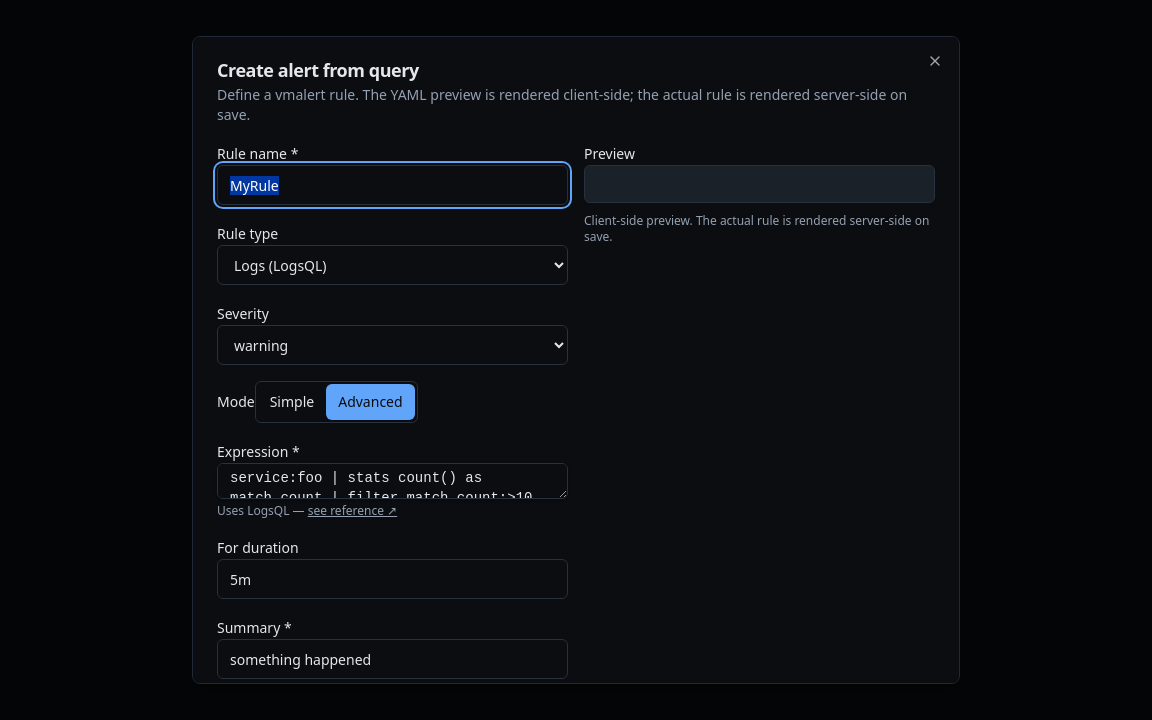
Test case: CreateAlertModal › shows a regex error for an invalid rule_name on submit
Replace the text in the field with test id "create-alert-name" with "1bad": (392, 185) [217, 165, 568, 205]
(page scrolled)
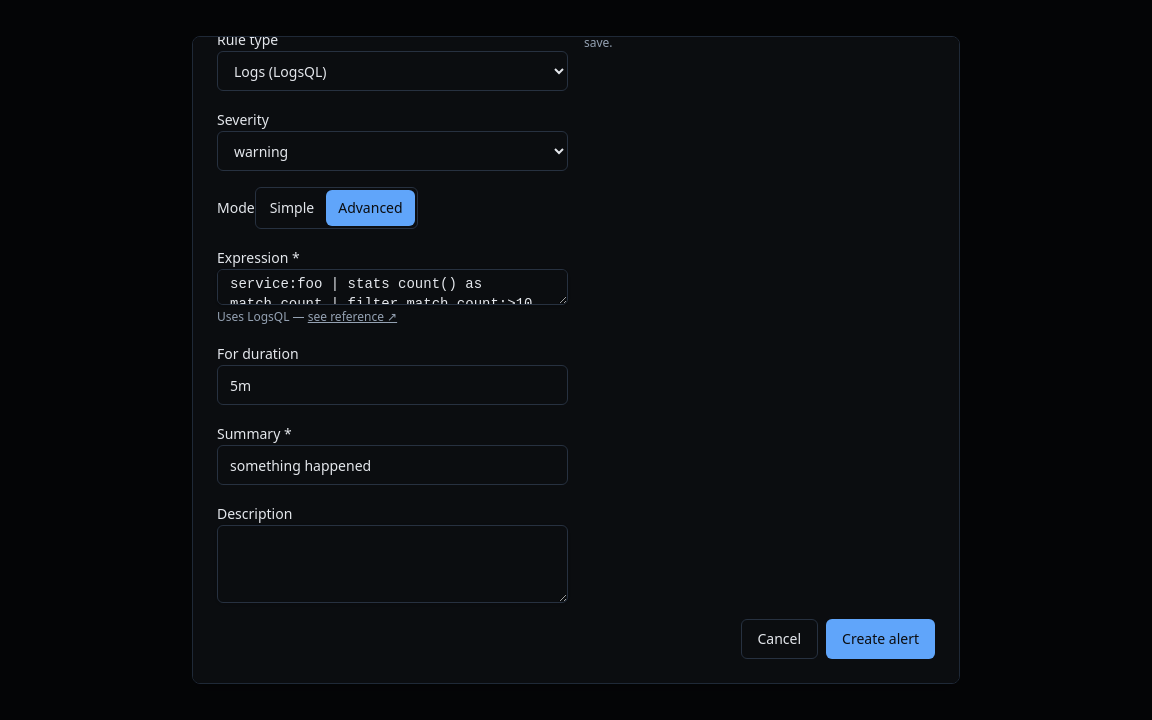
Click the button with test id "create-alert-submit": (881, 639) [826, 619, 935, 659]
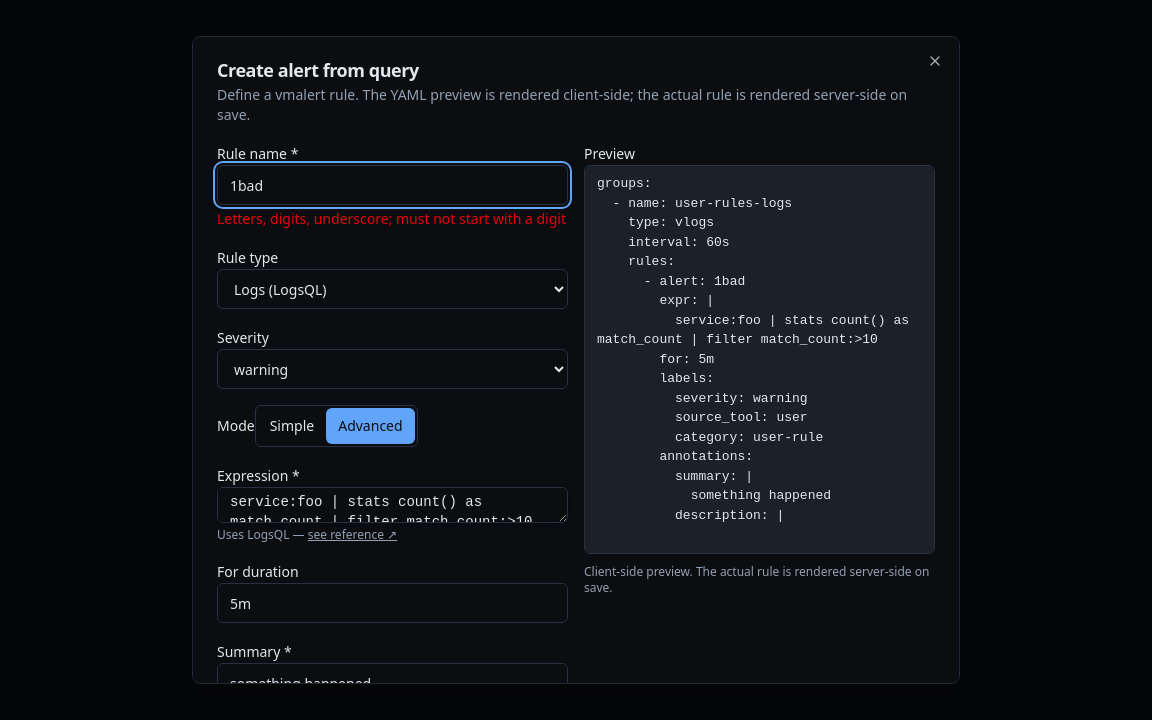
Expected: the text "Letters, digits, underscore; must not start with a digit" is shown, [217, 209, 568, 229]
